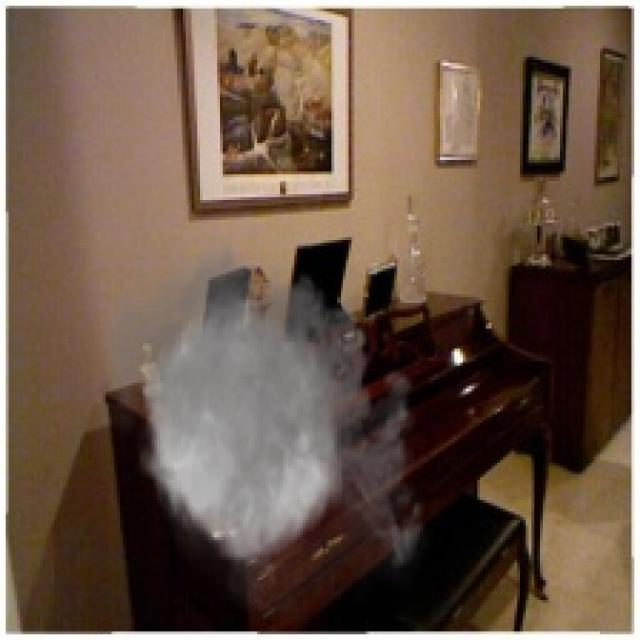smoke: (92, 220, 434, 637)
